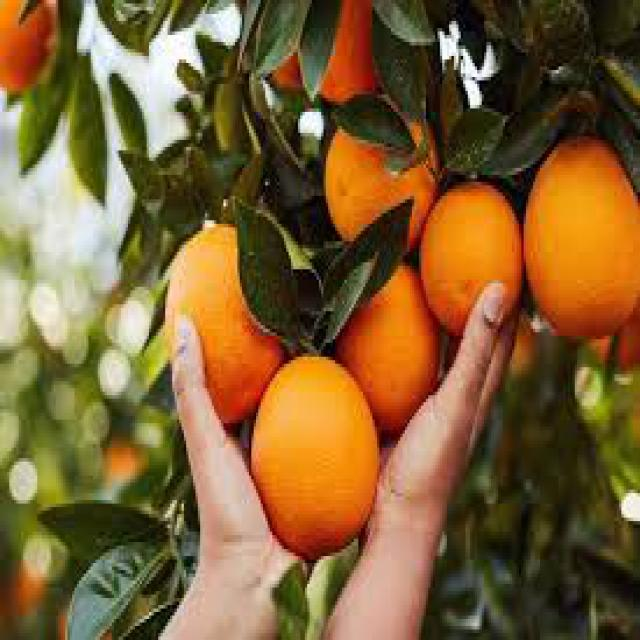orange: (246, 352, 384, 556), (163, 219, 286, 426), (524, 137, 639, 337), (334, 259, 442, 436), (418, 178, 523, 337), (324, 112, 439, 251), (314, 2, 378, 105), (0, 0, 58, 91)
